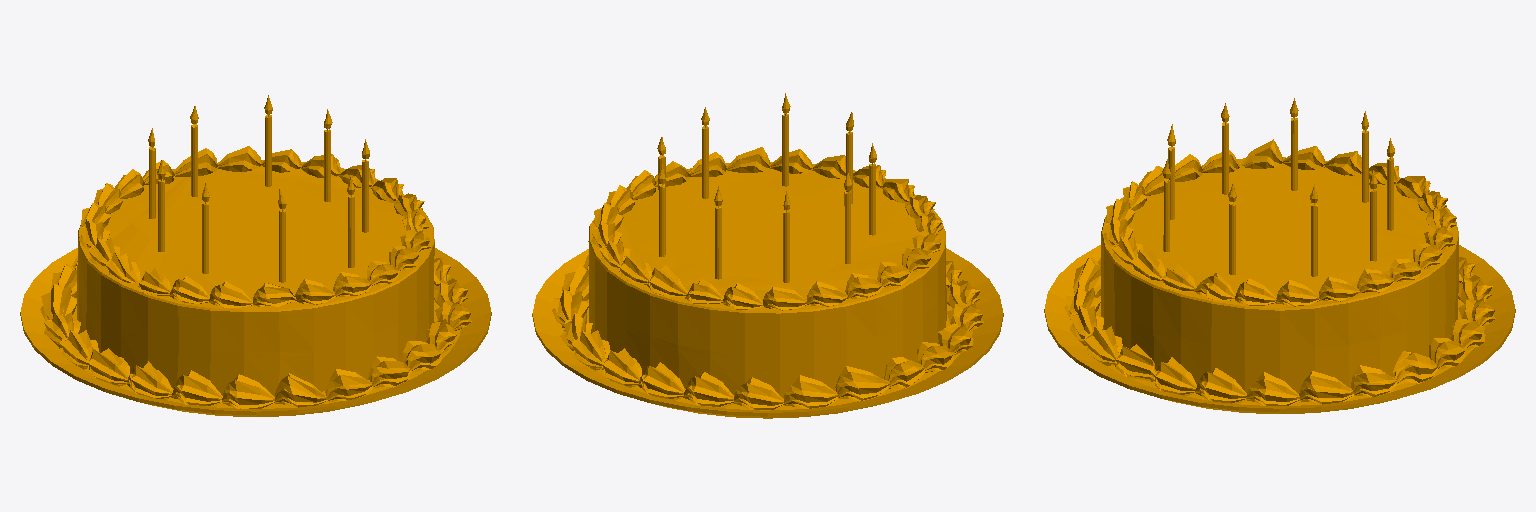
The robot description file, URDF, robot "none":
<robot name="none">
       <link name="none">
           <visual>
               <origin rpy="1.57 0 0" xyz="0 0 0" />
               <geometry>
                   <mesh filename="birthday_cake.obj" />
               </geometry>
           </visual>
          <collision>
              <geometry>
                  <box size="1.000000 0.442469 1.000000" />
              </geometry>
          </collision>

          <inertial>
            <mass value="0.0" />
            <inertia ixx="0.0" ixy="0.0" ixz="0.0" iyy="0.0" iyz="0.0" izz="0.0" />
          </inertial>
      </link>
  </robot>

--- Facts derived from the render (not from the file) ---
3 views of the same robot in one strip: view 1: azimuth 30°, elevation 25°; view 2: azimuth 150°, elevation 25°; view 3: azimuth 270°, elevation 25° (orthographic).
Robot: none — 1 links, 0 joints (none); root link none; default pose: all joints at 0.
Visible links, largest first — view 1: none; view 2: none; view 3: none.
Link boxes in pixels (x1,y1,x2,y2): none: [20, 95, 491, 416]; none: [532, 93, 1003, 418]; none: [1044, 98, 1515, 413].
Size in the robot's own frame: 1 by 1 by 0.443 metres.
1 mesh visuals loaded from 1 distinct referenced files (1 OBJ).